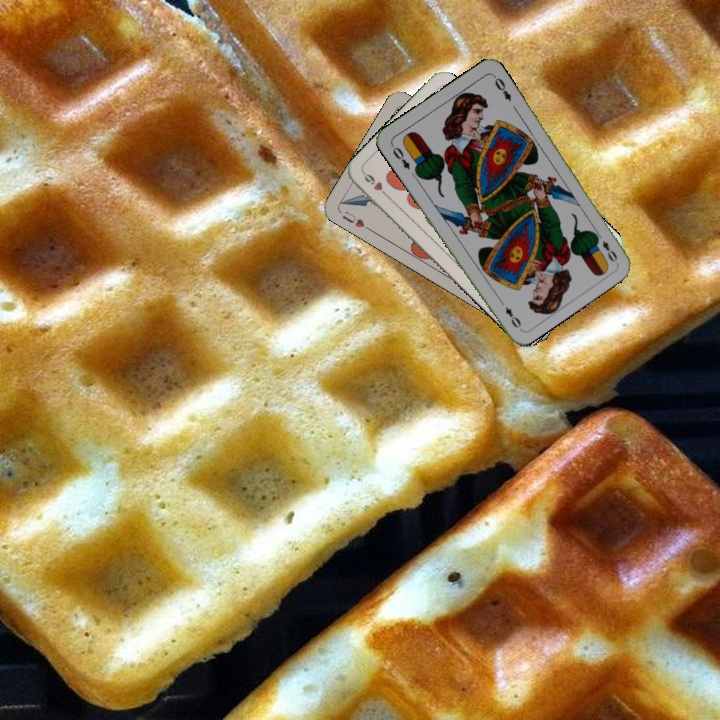EO: (592, 228, 620, 264), (387, 141, 413, 172)
H9: (360, 168, 392, 200)
HU: (338, 207, 373, 233)
